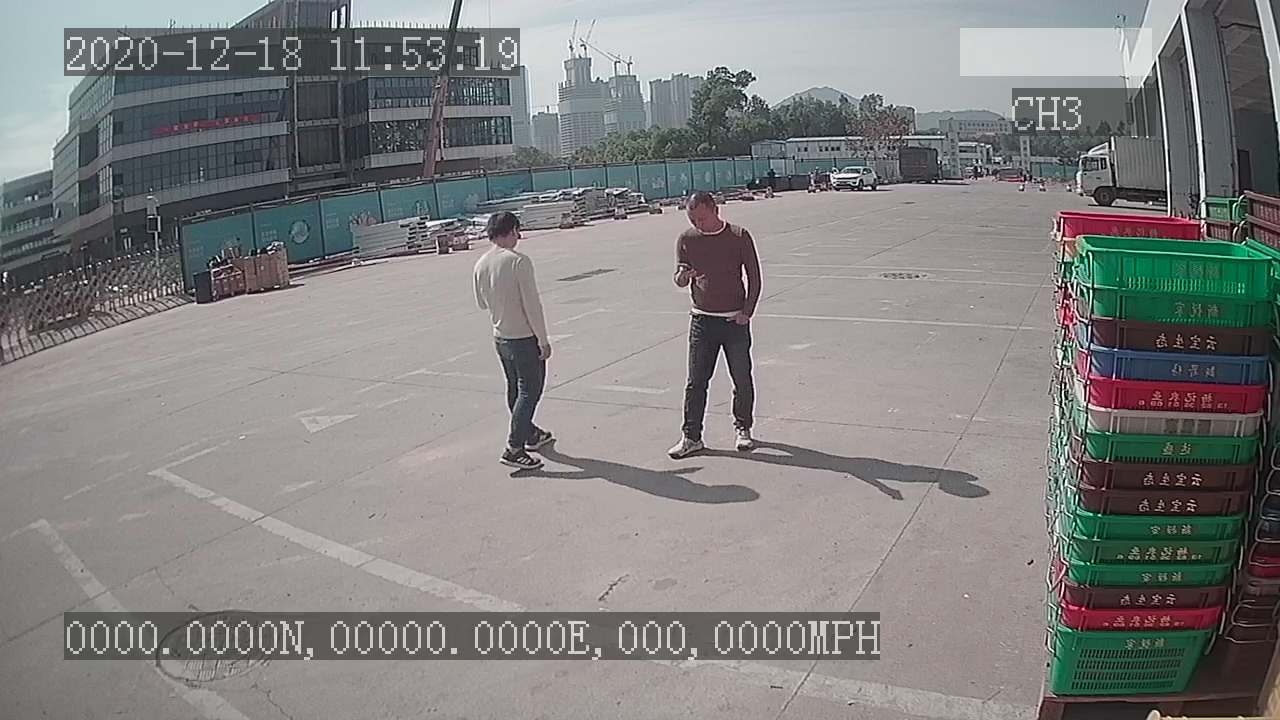person: (659, 183, 772, 463), (467, 206, 567, 483)
